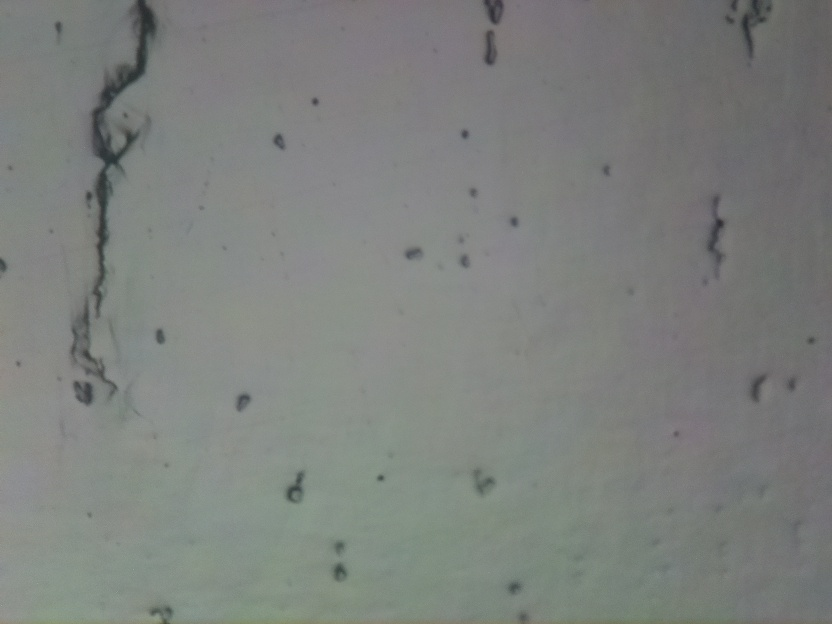crack: (91, 0, 165, 316), (60, 304, 118, 402), (702, 199, 729, 282)
